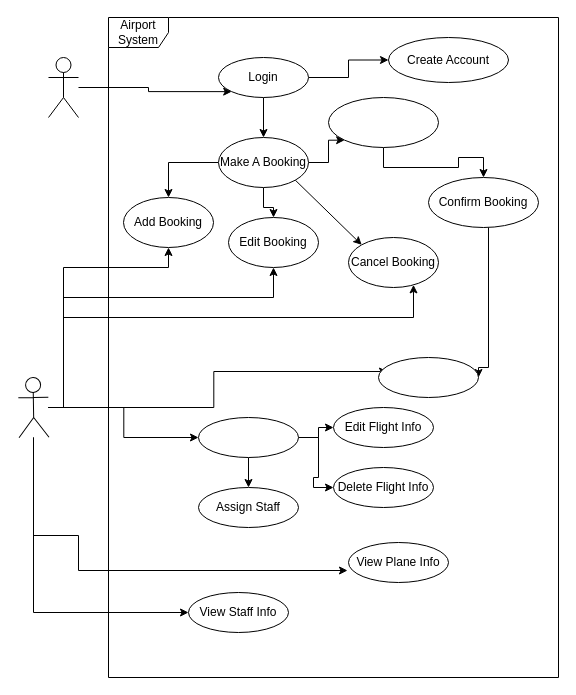
Some shapes in this 576 by 695 pixel diagram are drawn without their labels. The shapes that lost their labels are listed below. From the top down, each one's centre as x and y in pixels, then its label:
At point 63,87: "Customer".
At point 383,122: "Make Payment".
At point 428,377: "View Flight Info".
At point 33,407: "Admin".
At point 248,437: "Update Flight Info".
